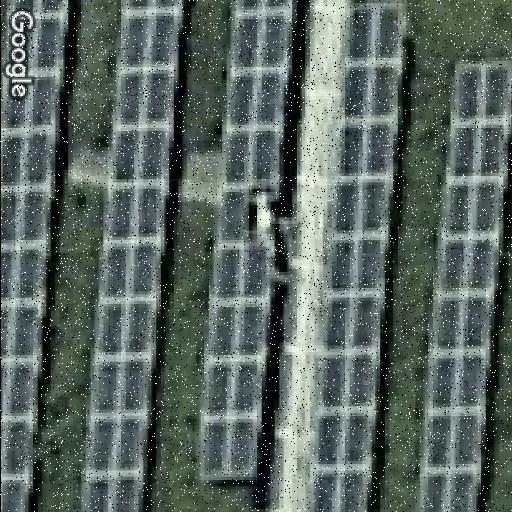solar-panel: (77, 0, 184, 512), (306, 0, 408, 512), (192, 0, 293, 482), (414, 61, 512, 512), (0, 0, 69, 512)
